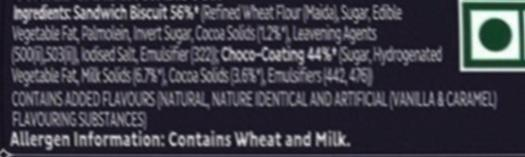ingredients: (7, 1, 505, 154)
